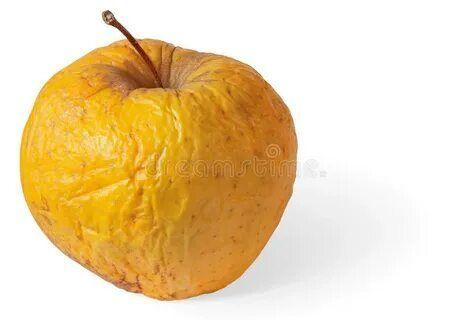Apple: (20, 41, 298, 300)
